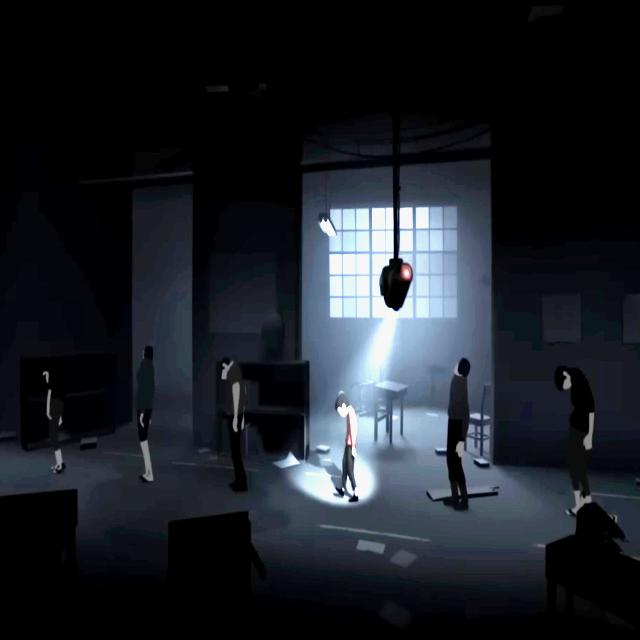boy: (334, 391, 358, 503)
zombie: (554, 363, 594, 516), (216, 356, 248, 494), (443, 357, 471, 511), (42, 365, 66, 476), (136, 346, 154, 483)
